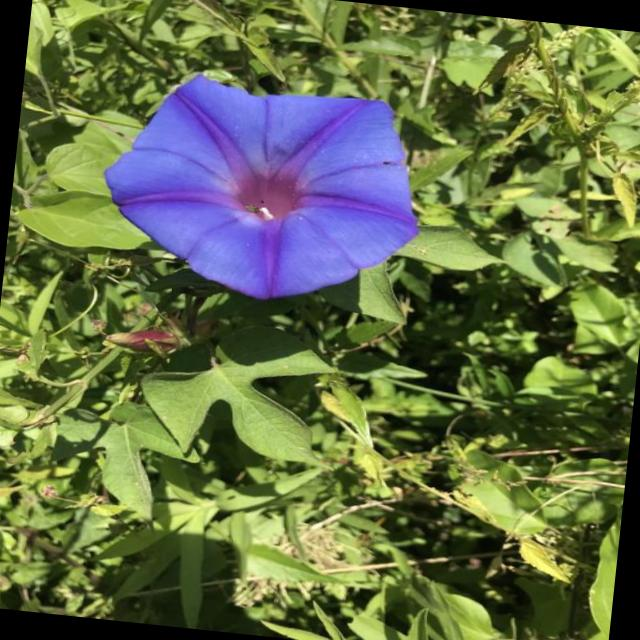ipomoea: (88, 61, 436, 317)
